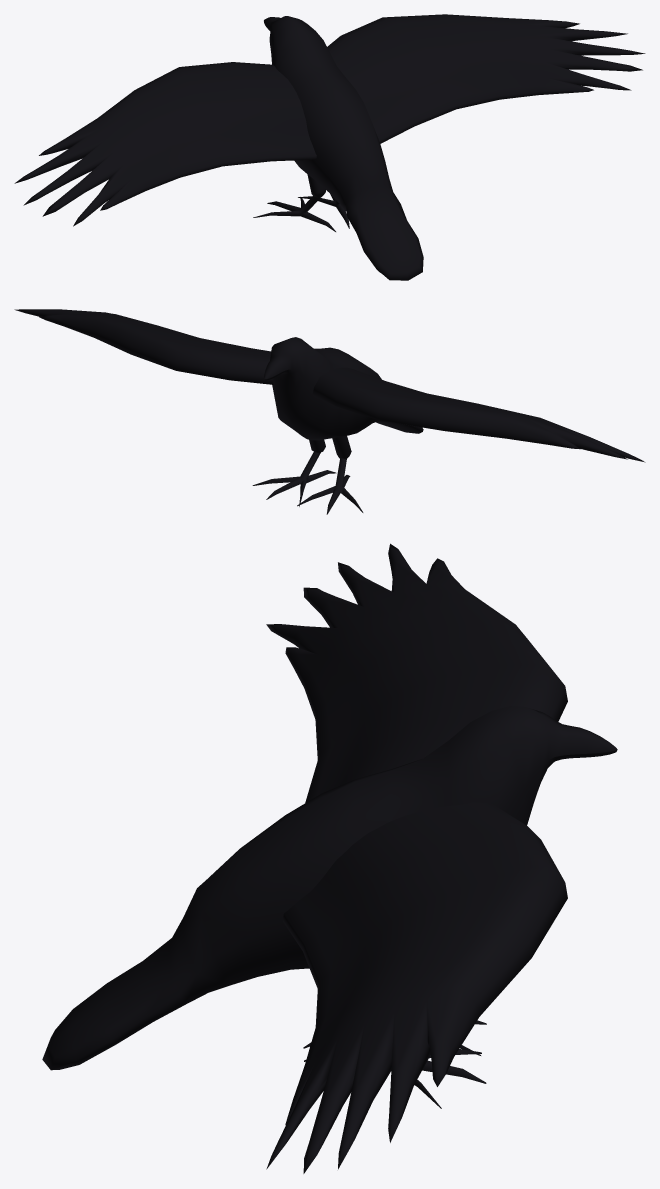
Rendered from raven.glb.
3 views of the same model, one above another, from view 1: azimuth 30°, elevation 25°; view 2: azimuth 150°, elevation 25°; view 3: azimuth 270°, elevation 25° (orthographic). The views are drawn at different scales.
Visible parts, largest first — view 1: raven; view 2: raven; view 3: raven.
Boxes of the visible parts, bbox=[...] form: raven: bbox=[14, 14, 645, 280]; raven: bbox=[14, 309, 645, 514]; raven: bbox=[42, 543, 617, 1173].
Size of the model in its own units: 1 by 0.2731 by 0.3998.
Materials: 1 (1 with a texture image).
